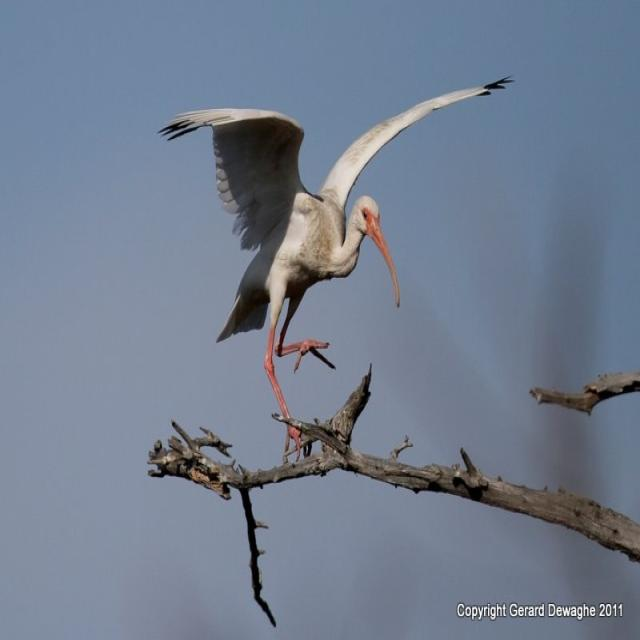bird: (148, 52, 524, 458)
